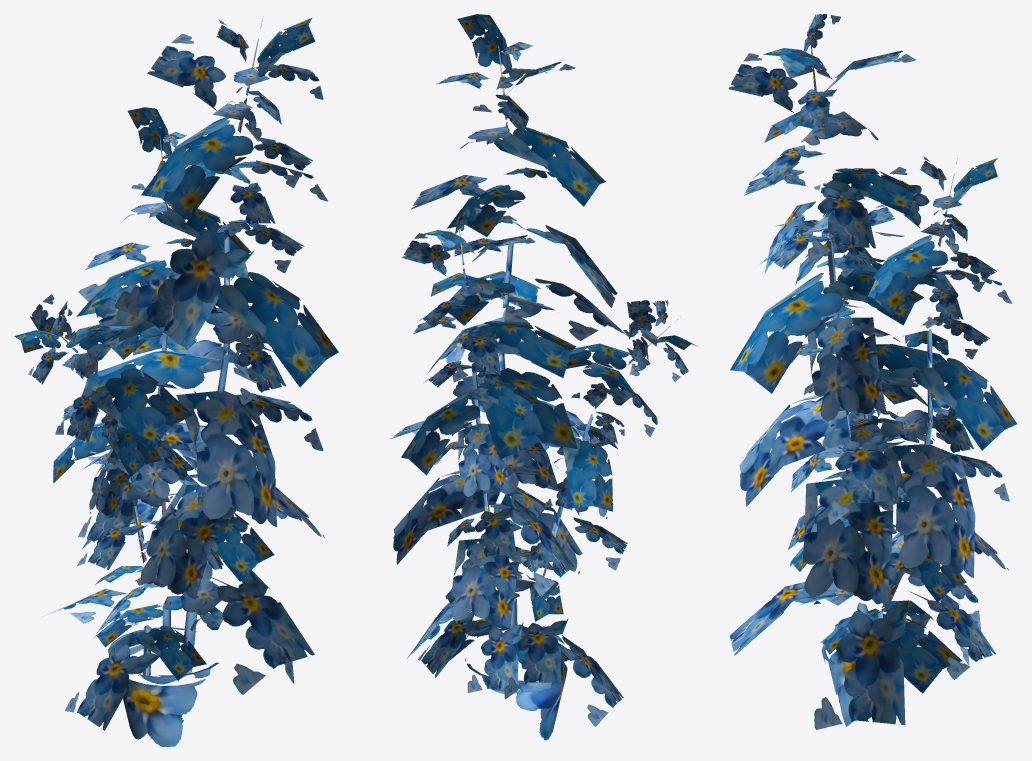
File: Tall floorplant.fbx
3 views of the same model, side by side, from view 1: azimuth 30°, elevation 25°; view 2: azimuth 150°, elevation 25°; view 3: azimuth 270°, elevation 25° (orthographic). The views are drawn at different scales.
Parts seen in each view (by area): view 1: tall_plant1; view 2: tall_plant1; view 3: tall_plant1.
Part boxes in pixels (box(x1,y1,x2,y2)): tall_plant1: box(14, 16, 338, 746); tall_plant1: box(390, 14, 697, 740); tall_plant1: box(728, 14, 1016, 729).
Bounding box in the file's own units: 41.41 × 95.48 × 33.8.
